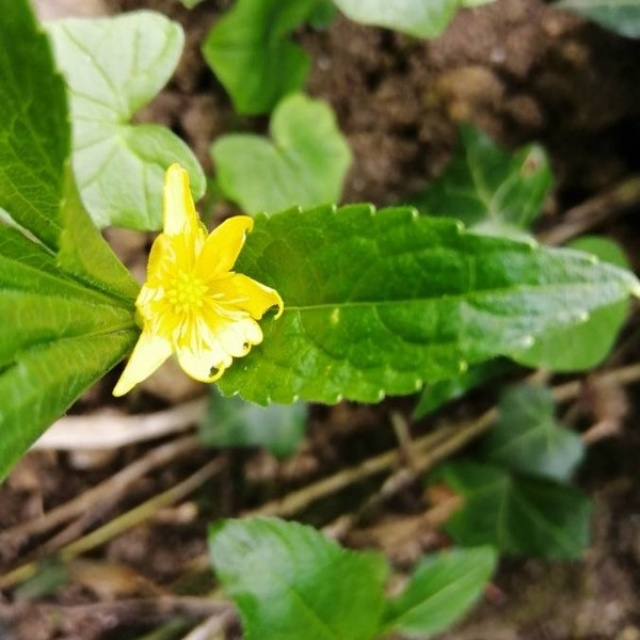obstacle: (22, 35, 613, 415)
